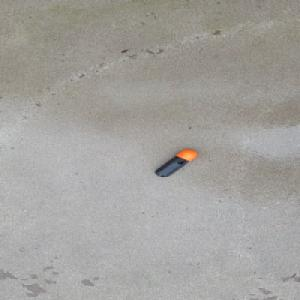PlasticPart: (154, 149, 198, 177)
